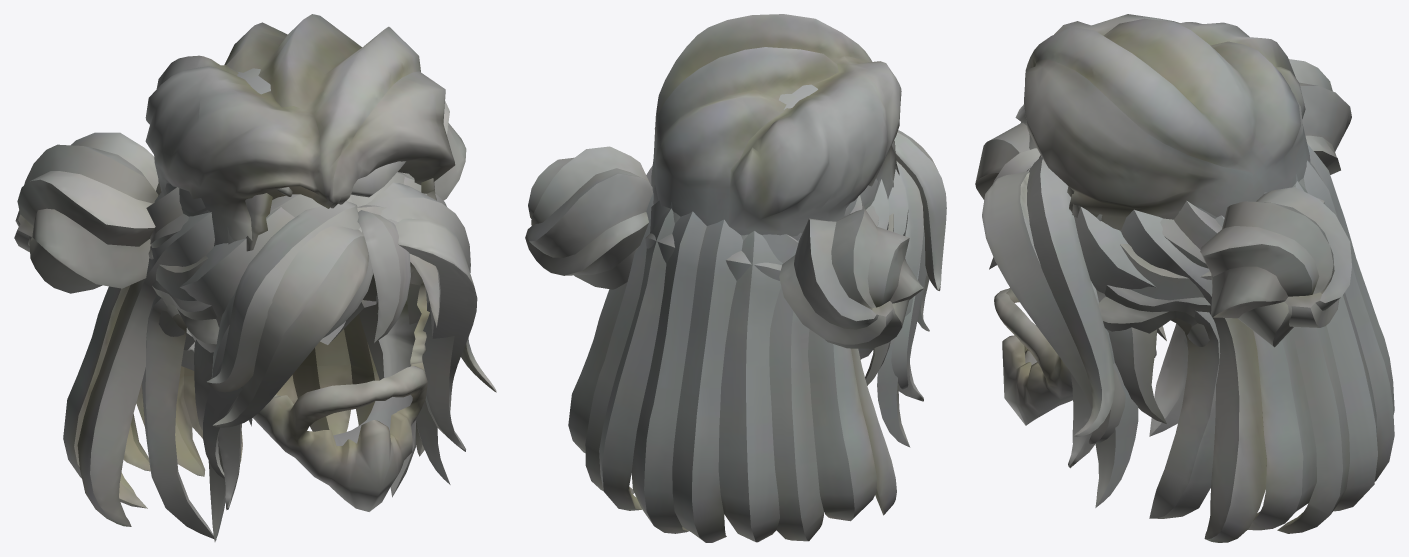
Rendered from hair.glb.
3 views of the same model, side by side, from view 1: azimuth 30°, elevation 25°; view 2: azimuth 150°, elevation 25°; view 3: azimuth 270°, elevation 25° (orthographic). The views are drawn at different scales.
Visible parts, largest first — view 1: Hair_Long, Hair_SimpleParted, Hair_Buns, Hair_Beard, Hair_Buzzed; view 2: Hair_Long, Hair_SimpleParted, Hair_Buns, Hair_Buzzed; view 3: Hair_Long, Hair_SimpleParted, Hair_Buns, Hair_Beard.
Part boxes in pixels (left/top/right/bottom): Hair_Long: left=63, top=172, right=496, bottom=539; Hair_SimpleParted: left=145, top=14, right=455, bottom=244; Hair_Buns: left=14, top=101, right=466, bottom=541; Hair_Beard: left=253, top=262, right=429, bottom=511; Hair_Buzzed: left=161, top=68, right=436, bottom=251; Hair_Long: left=568, top=130, right=946, bottom=542; Hair_SimpleParted: left=651, top=14, right=901, bottom=236; Hair_Buns: left=525, top=146, right=923, bottom=447; Hair_Buzzed: left=653, top=84, right=899, bottom=240; Hair_Long: left=975, top=122, right=1394, bottom=542; Hair_SimpleParted: left=1024, top=14, right=1310, bottom=230; Hair_Buns: left=989, top=59, right=1351, bottom=507; Hair_Beard: left=994, top=288, right=1156, bottom=425.
Size of the model in its own units: 0.3015 by 0.3389 by 0.2705.
2 materials, 2 textured.
